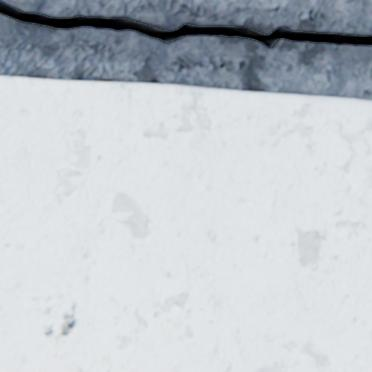brick: (0, 76, 371, 371)
crack: (0, 0, 371, 47)
